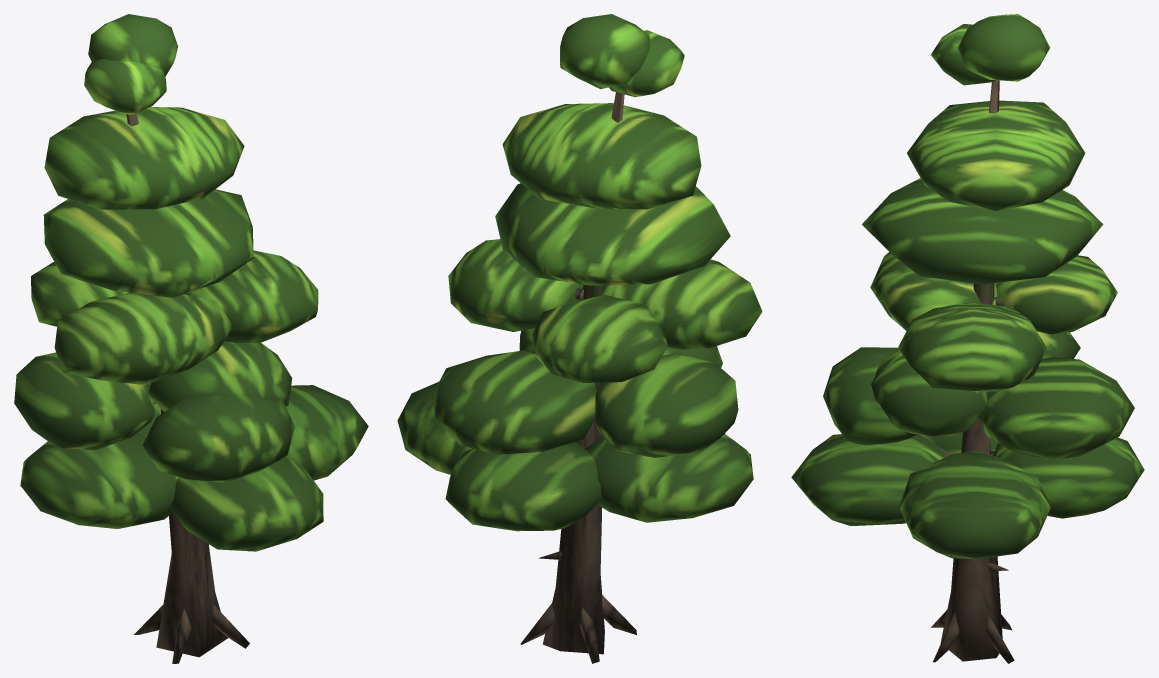
The model's file is Canopy_Tree_B_Far.glb.
3 views of the same model, side by side, from view 1: azimuth 30°, elevation 25°; view 2: azimuth 150°, elevation 25°; view 3: azimuth 270°, elevation 25° (orthographic). The views are drawn at different scales.
Visible parts, largest first — view 1: Canopy_Tree_B_Far__Leaves, Canopy_Tree_B_Far__Bark; view 2: Canopy_Tree_B_Far__Leaves, Canopy_Tree_B_Far__Bark; view 3: Canopy_Tree_B_Far__Leaves, Canopy_Tree_B_Far__Bark.
Boxes of the visible parts, x1=… form: Canopy_Tree_B_Far__Leaves: x1=14, y1=14, x2=368, y2=551; Canopy_Tree_B_Far__Bark: x1=126, y1=113, x2=249, y2=663; Canopy_Tree_B_Far__Leaves: x1=397, y1=14, x2=762, y2=531; Canopy_Tree_B_Far__Bark: x1=520, y1=92, x2=636, y2=663; Canopy_Tree_B_Far__Leaves: x1=791, y1=14, x2=1144, y2=559; Canopy_Tree_B_Far__Bark: x1=931, y1=80, x2=1014, y2=663.
Size of the model in its own units: 31.83 by 58.6 by 30.79.
1 material, 1 textured.
